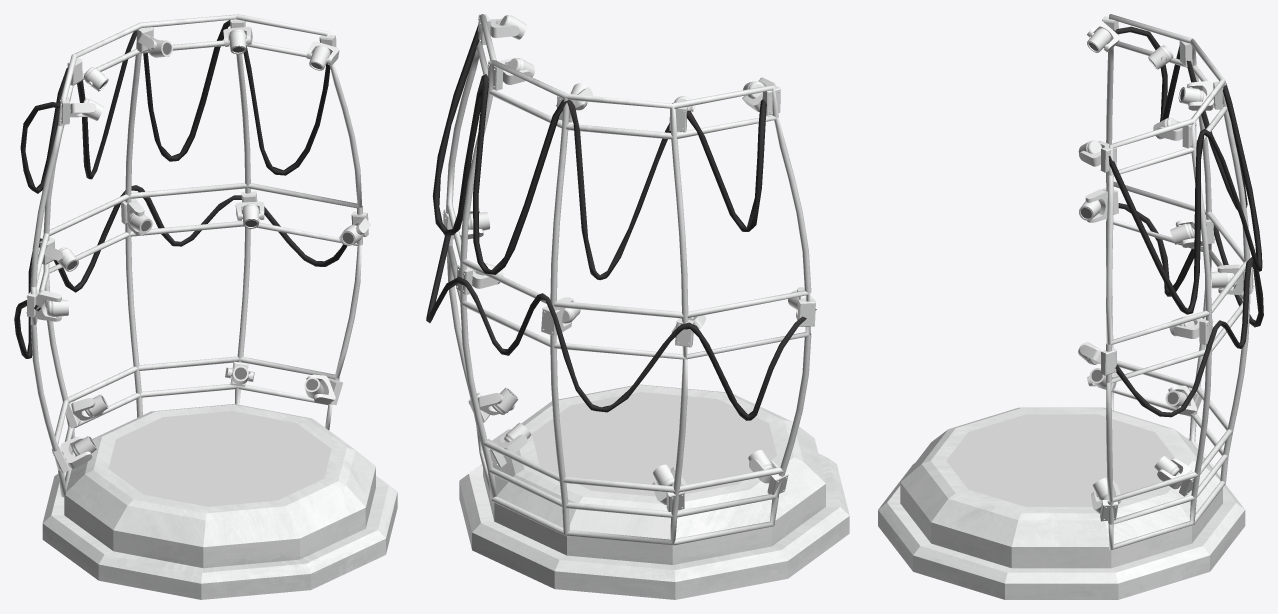
The model's file is dance stage.fbx.
3 views of the same model, side by side, from view 1: azimuth 30°, elevation 25°; view 2: azimuth 150°, elevation 25°; view 3: azimuth 270°, elevation 25° (orthographic). The views are drawn at different scales.
Parts seen in each view (by area): view 1: SM_DanceBase; view 2: SM_DanceBase; view 3: SM_DanceBase.
Boxes of the visible parts, x1,y1,x2,y2 form: SM_DanceBase: (14, 14, 397, 599); SM_DanceBase: (426, 14, 849, 599); SM_DanceBase: (878, 14, 1263, 599).
Size of the model in its own units: 396 by 492 by 385.
